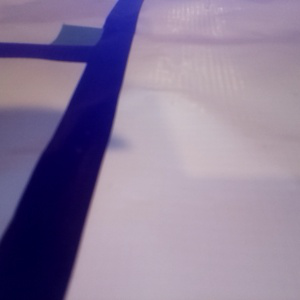top_left: (51, 25, 126, 62)
